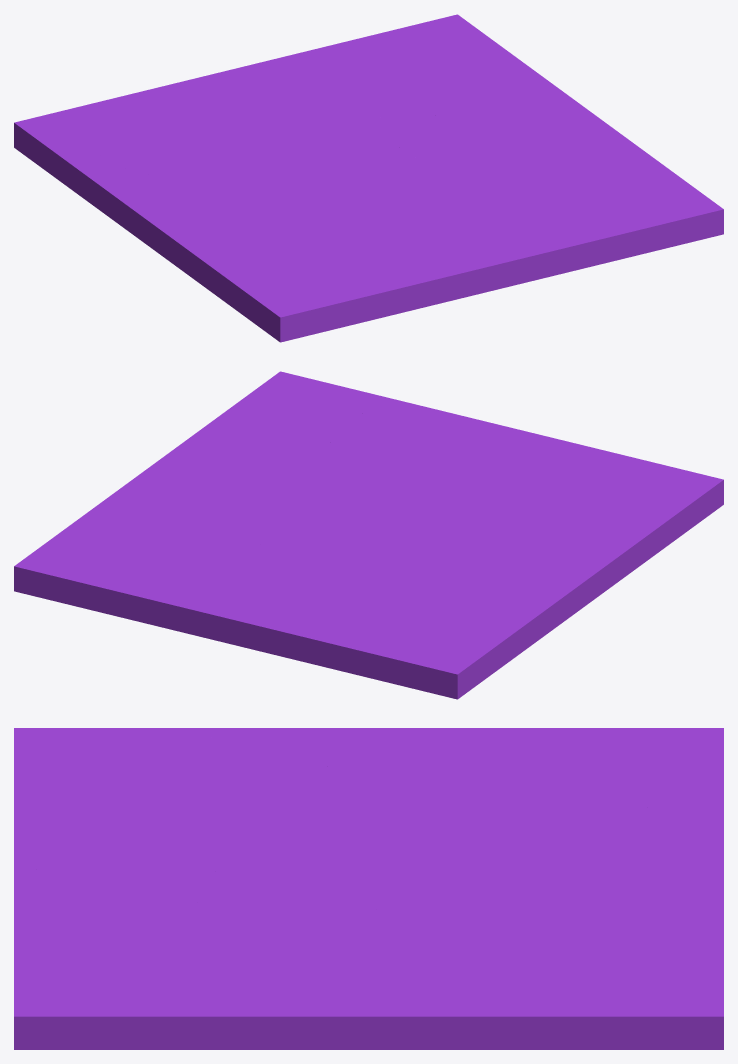
The model's file is Window_179_chunks.fbx.
3 renders of one model, top to bottom at view 1: azimuth 30°, elevation 25°; view 2: azimuth 150°, elevation 25°; view 3: azimuth 270°, elevation 25°, orthographic. The views are drawn at different scales.
Parts seen in each view (by area): view 1: Window_179_0, Window_179_35, Window_179_21, Window_179_9, Window_179_40, Window_179_7, Window_179_37, Window_179_32, Window_179_2, Window_179_1, Window_179_39, Window_179_4 (+26 smaller); view 2: Window_179_0, Window_179_21, Window_179_1, Window_179_18, Window_179_35, Window_179_7, Window_179_37, Window_179_9, Window_179_40, Window_179_22, Window_179_32, Window_179_2 (+26 smaller); view 3: Window_179_0, Window_179_40, Window_179_37, Window_179_32, Window_179_35, Window_179_21, Window_179_7, Window_179_2, Window_179_1, Window_179_30, Window_179_20, Window_179_9 (+27 smaller).
Part boxes in pixels (x1=…): Window_179_0: x1=300, y1=183, x2=497, y2=323; Window_179_35: x1=468, y1=204, x2=633, y2=289; Window_179_21: x1=14, y1=93, x2=165, y2=184; Window_179_9: x1=227, y1=259, x2=355, y2=342; Window_179_40: x1=586, y1=150, x2=723, y2=244; Window_179_7: x1=126, y1=200, x2=275, y2=263; Window_179_37: x1=512, y1=100, x2=616, y2=181; Window_179_32: x1=421, y1=50, x2=549, y2=132; Window_179_2: x1=375, y1=155, x2=537, y2=196; Window_179_1: x1=217, y1=39, x2=356, y2=104; Window_179_39: x1=537, y1=177, x2=679, y2=256; Window_179_4: x1=406, y1=38, x2=505, y2=112; Window_179_0: x1=393, y1=426, x2=668, y2=523; Window_179_21: x1=338, y1=616, x2=508, y2=699; Window_179_1: x1=115, y1=576, x2=292, y2=639; Window_179_18: x1=14, y1=562, x2=200, y2=626; Window_179_35: x1=346, y1=396, x2=506, y2=461; Window_179_7: x1=532, y1=519, x2=650, y2=610; Window_179_37: x1=131, y1=437, x2=317, y2=480; Window_179_9: x1=595, y1=466, x2=723, y2=538; Window_179_40: x1=200, y1=371, x2=341, y2=438; Window_179_22: x1=212, y1=602, x2=355, y2=673; Window_179_32: x1=63, y1=498, x2=266, y2=530; Window_179_2: x1=276, y1=452, x2=410, y2=518; Window_179_0: x1=14, y1=764, x2=306, y2=871; Window_179_40: x1=14, y1=971, x2=230, y2=1049; Window_179_37: x1=193, y1=943, x2=413, y2=1049; Window_179_32: x1=400, y1=922, x2=597, y2=1049; Window_179_35: x1=14, y1=869, x2=187, y2=950; Window_179_21: x1=565, y1=728, x2=723, y2=810; Window_179_7: x1=209, y1=728, x2=424, y2=776; Window_179_2: x1=209, y1=871, x2=365, y2=948; Window_179_1: x1=581, y1=860, x2=723, y2=950; Window_179_30: x1=328, y1=951, x2=509, y2=1049; Window_179_20: x1=580, y1=941, x2=708, y2=1049; Window_179_9: x1=14, y1=728, x2=178, y2=780.
Bounding box in the file's own units: 1129 × 60.81 × 1174.
